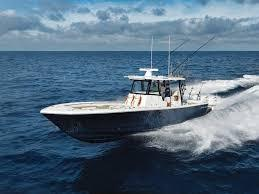fishing boat: (38, 32, 217, 144)
